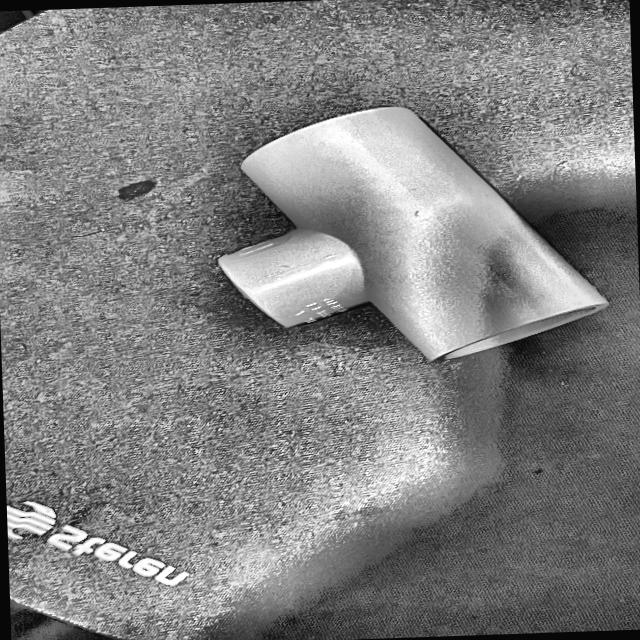EQUALTEE: (219, 106, 609, 363)
